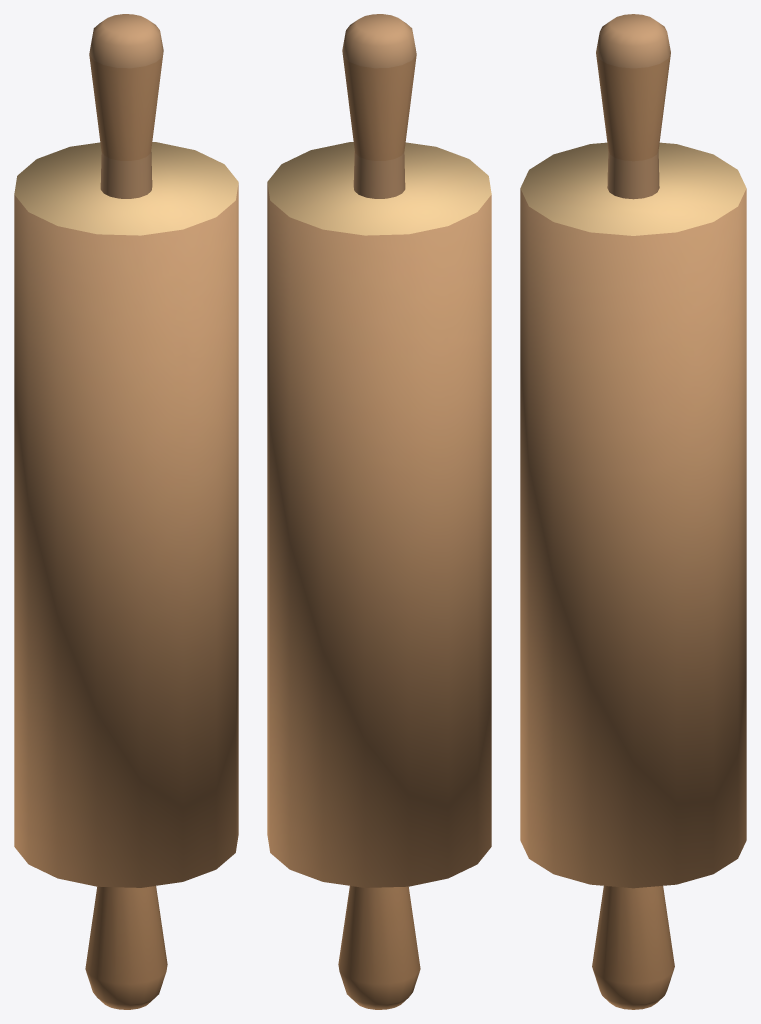
Rendered from rolling_pin.fbx.
The picture shows the model from 3 angles, left to right: view 1: azimuth 30°, elevation 25°; view 2: azimuth 150°, elevation 25°; view 3: azimuth 270°, elevation 25°; orthographic projection.
Visible parts, largest first — view 1: RollingPin; view 2: RollingPin; view 3: RollingPin.
Boxes of the visible parts, x1=… form: RollingPin: x1=14, y1=14, x2=238, y2=1009; RollingPin: x1=267, y1=14, x2=491, y2=1009; RollingPin: x1=520, y1=14, x2=746, y2=1009.
Size of the model in its own units: 35.28 by 168 by 35.28.
